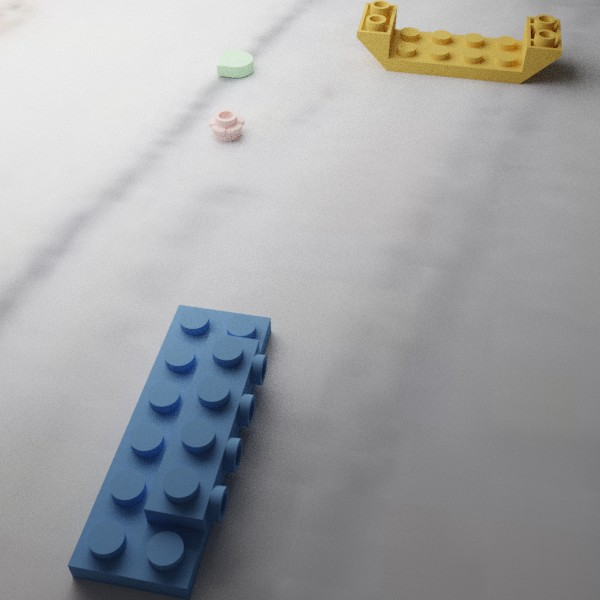lego: (67, 304, 271, 599), (356, 0, 562, 84), (208, 109, 244, 142), (216, 49, 253, 78)
